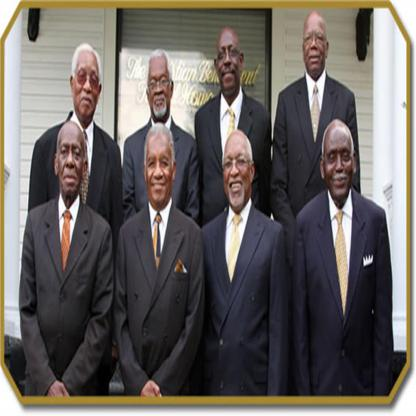face: (325, 128, 352, 197), (224, 134, 250, 205), (147, 135, 172, 205), (73, 51, 99, 117), (59, 125, 83, 194), (150, 57, 171, 118), (218, 32, 240, 89), (304, 15, 326, 71)
